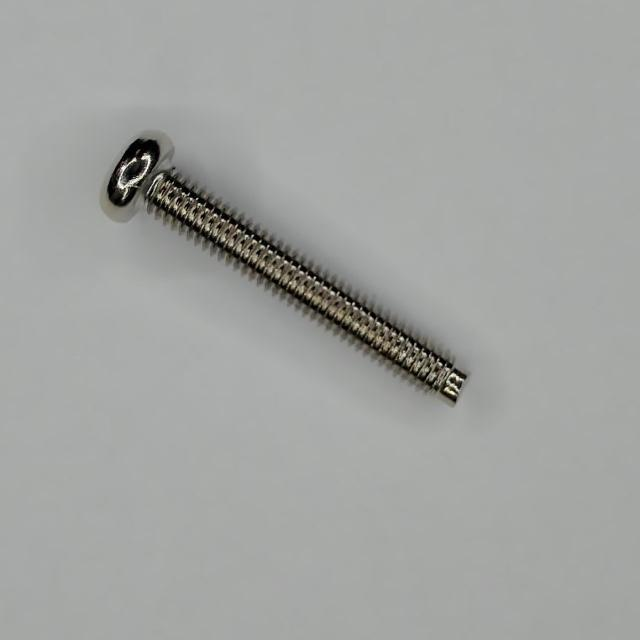Screw: (100, 130, 468, 404)
